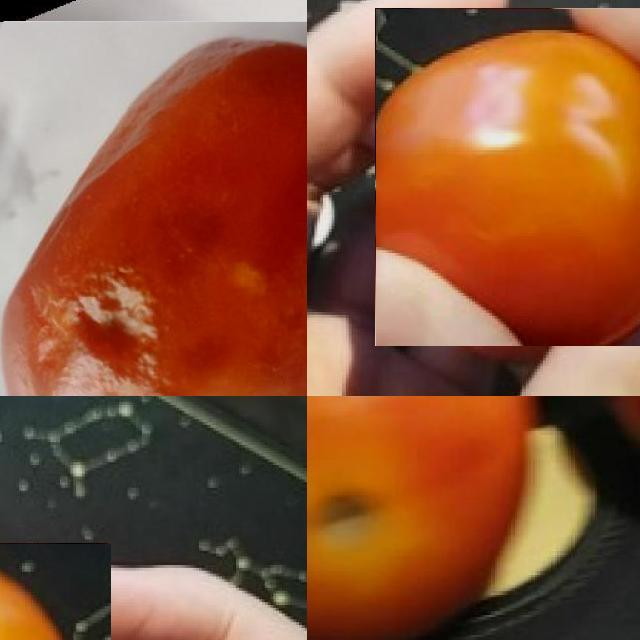Fresh Tomato: (374, 8, 640, 345), (307, 396, 545, 640)
Rotten Tomato: (0, 21, 307, 396)
